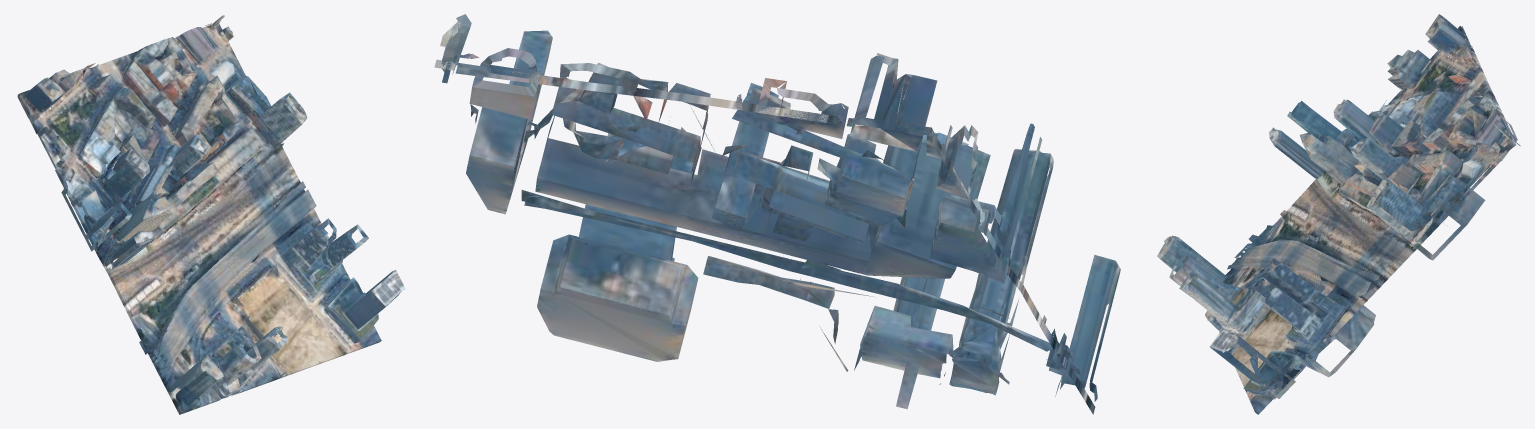
Rendered from AJVsH2wFZbsquHN8D-1-k8nnajiVhIkZzwjcrR2cSANwHIy7b3ZCQe_C7ZmHrbaWCOP7nLjqNQgWItpzMx8U7vTRk42FtNRrVLgSAkSFWbtY8PgJnKHVAhJ_pCOBSXk_IPXjI7AGR_VSBe9Q3c7AhXzEzxu-eV1emQ.glb.
3 views of the same model, side by side, from view 1: azimuth 30°, elevation 25°; view 2: azimuth 150°, elevation 25°; view 3: azimuth 270°, elevation 25° (orthographic). The views are drawn at different scales.
Size of the model in its own units: 538 by 491 by 584.
2 materials, 2 textured.
